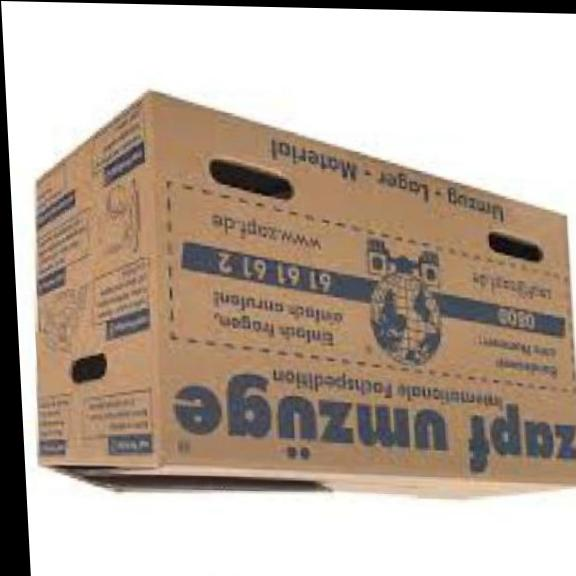Kertas: (36, 94, 575, 497)
